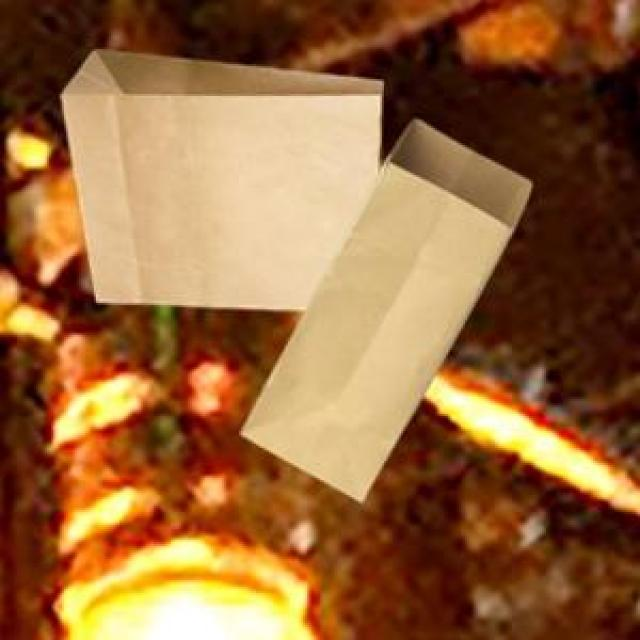Paper_Bag: (238, 116, 528, 498), (58, 48, 380, 306)
